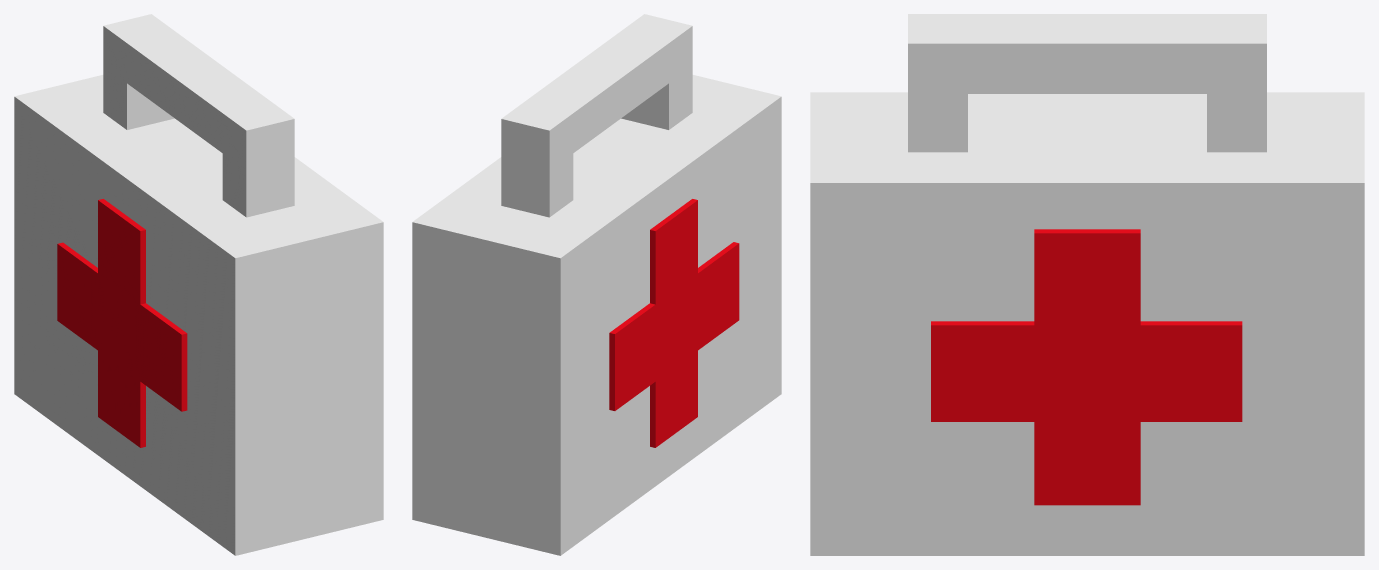
File: first_aid_case.fbx
3 views of the same model, side by side, from view 1: azimuth 30°, elevation 25°; view 2: azimuth 150°, elevation 25°; view 3: azimuth 270°, elevation 25° (orthographic). The views are drawn at different scales.
Visible parts, largest first — view 1: Cube; view 2: Cube; view 3: Cube.
Boxes of the visible parts, <box> form: Cube: <box>14,14,383,555</box>; Cube: <box>412,14,781,555</box>; Cube: <box>810,14,1364,555</box>.
Bounding box in the file's own units: 189 × 432 × 451.
